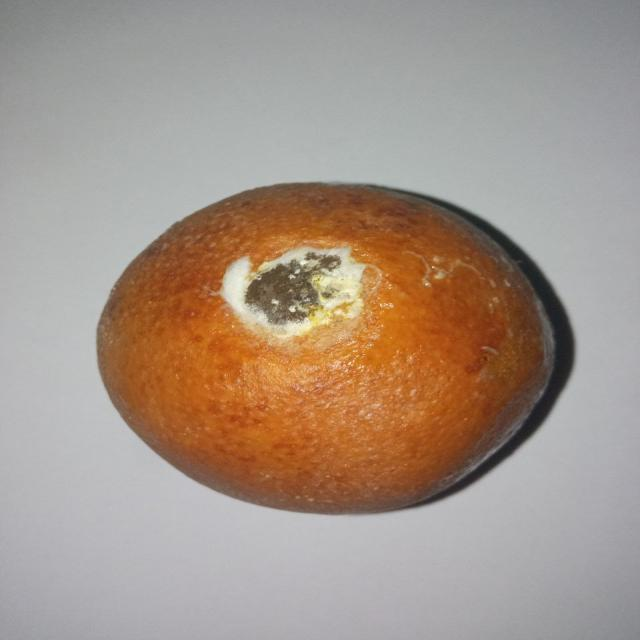rotten_orange: (91, 180, 556, 514)
